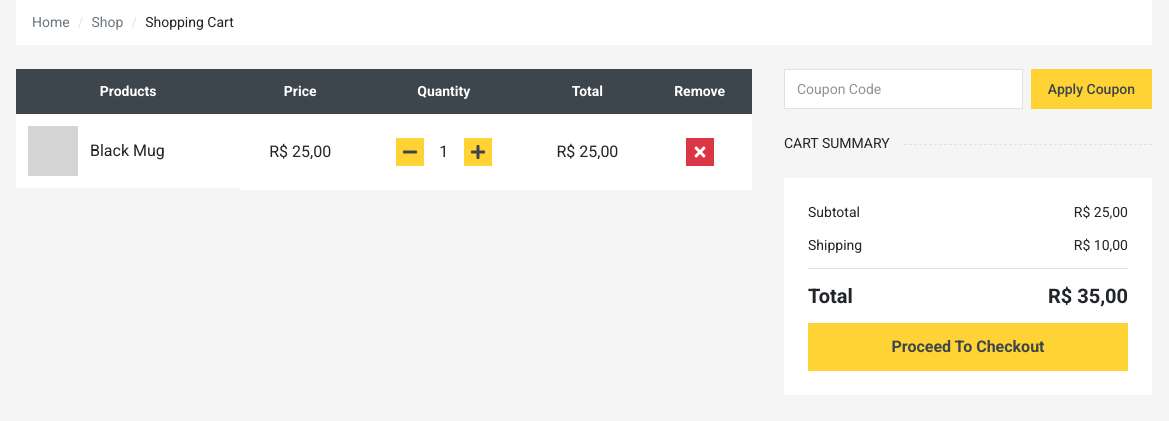
Cart › says coupons are not available yet when one is applied
Check: the text "Black Mug" is shown, box [16, 114, 240, 192]
Type "SAVE10" into the field with placeholder "Coupon Code" at (903, 89), box [784, 69, 1023, 109]
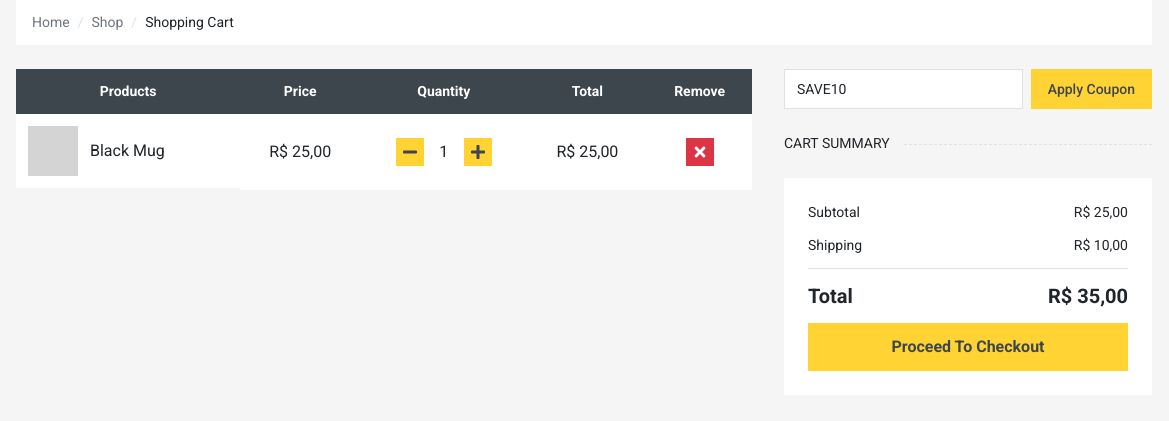
Click the button "Apply Coupon" at (1091, 89), box [1031, 69, 1152, 109]
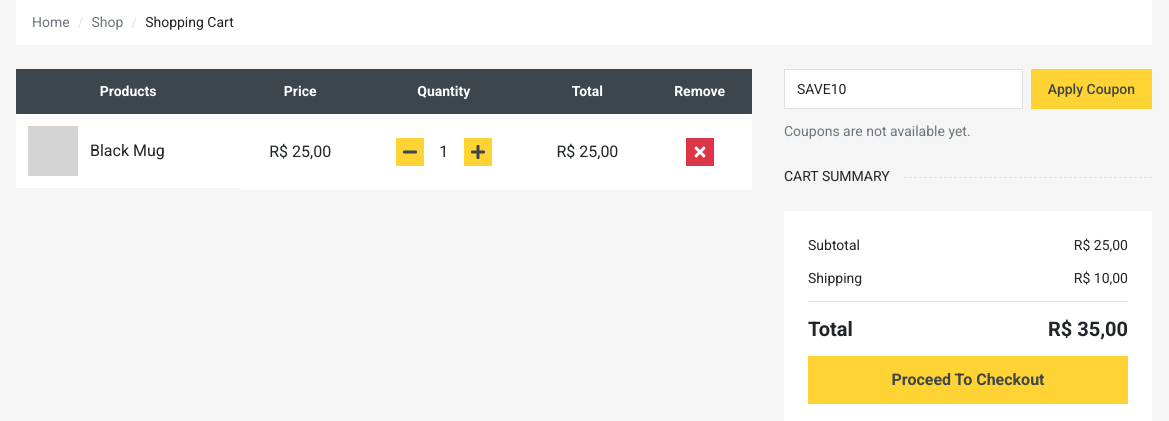
Check: the text "Coupons are not available yet." is shown, box [784, 123, 971, 139]
